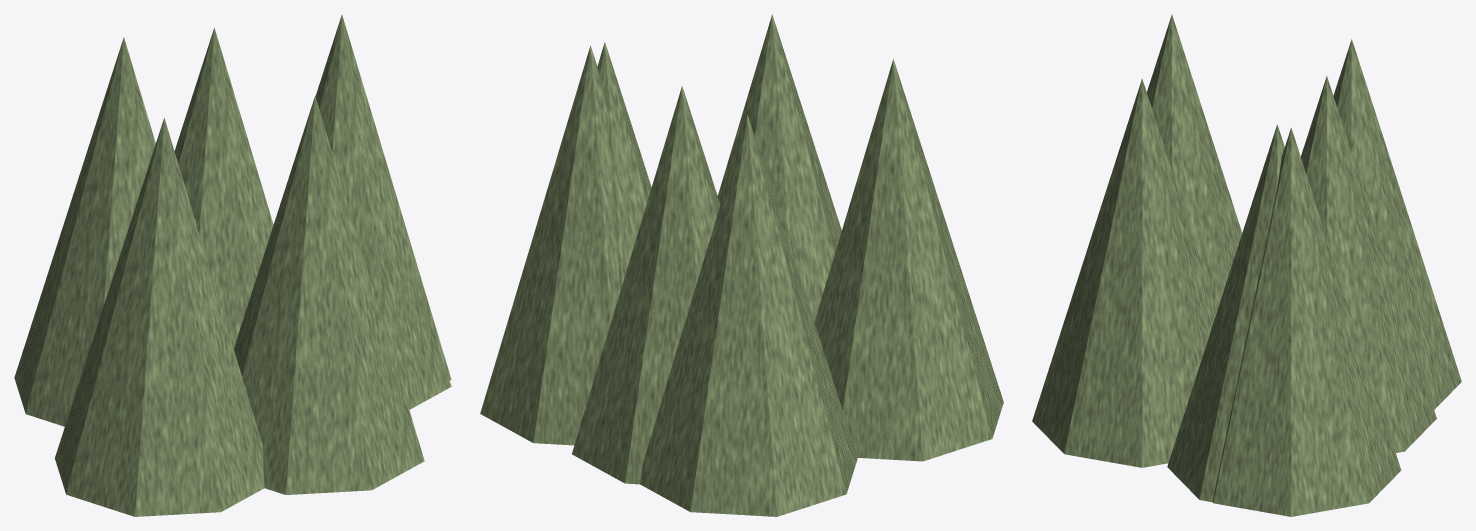
Rendered from bush_spiky.glb.
The picture shows the model from 3 angles, left to right: view 1: azimuth 30°, elevation 25°; view 2: azimuth 150°, elevation 25°; view 3: azimuth 270°, elevation 25°; orthographic projection. The views are drawn at different scales.
Visible parts, largest first — view 1: bushspike_353, bushspike_351, bushspike_349, bushspike_350, bushspike_354, bushspike_352; view 2: bushspike_349, bushspike_353, bushspike_352, bushspike_354, bushspike_351, bushspike_350; view 3: bushspike_351, bushspike_352, bushspike_354, bushspike_350, bushspike_349, bushspike_353.
Part boxes in pixels (x1,y1,x2,y2): bushspike_353: [55, 118, 264, 516]; bushspike_351: [234, 96, 424, 494]; bushspike_349: [14, 37, 155, 426]; bushspike_350: [316, 21, 451, 409]; bushspike_354: [174, 28, 273, 348]; bushspike_352: [315, 15, 451, 380]; bushspike_349: [640, 114, 857, 516]; bushspike_353: [814, 59, 1003, 461]; bushspike_352: [480, 45, 620, 445]; bushspike_354: [572, 86, 720, 484]; bushspike_351: [717, 14, 841, 321]; bushspike_350: [597, 42, 651, 290]; bushspike_351: [1032, 78, 1216, 467]; bushspike_352: [1212, 128, 1401, 516]; bushspike_354: [1301, 76, 1436, 452]; bushspike_350: [1167, 124, 1284, 501]; bushspike_349: [1333, 39, 1461, 409]; bushspike_353: [1147, 14, 1242, 311].
Size of the model in its own units: 0.7094 by 0.55 by 0.6244.
1 material, 1 textured.
